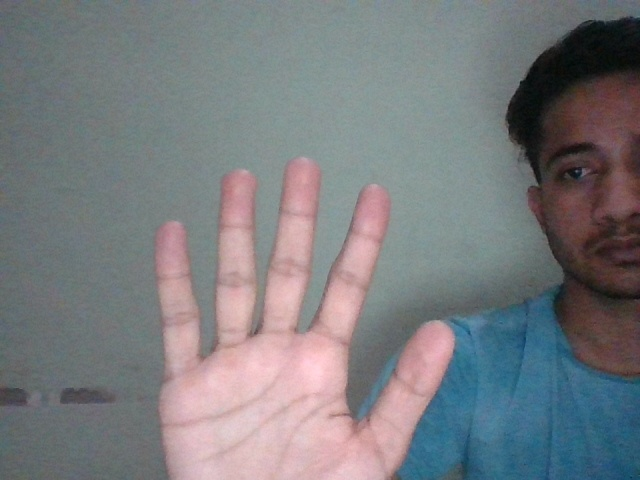Hello: (153, 156, 457, 480)
